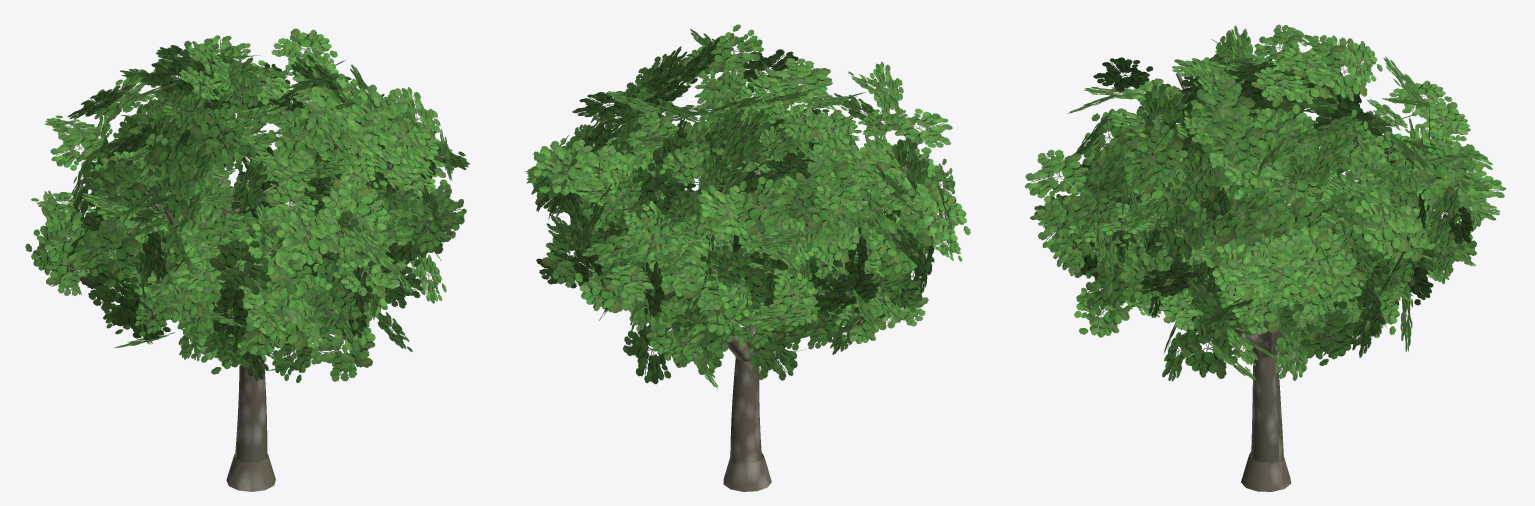
The model's file is chinor_1.glb.
3 renders of one model, left to right at view 1: azimuth 30°, elevation 25°; view 2: azimuth 150°, elevation 25°; view 3: azimuth 270°, elevation 25°, orthographic. The views are drawn at different scales.
Visible parts, largest first — view 1: chinor_leaves, chinor_bark; view 2: chinor_leaves, chinor_bark; view 3: chinor_leaves, chinor_bark.
Part boxes in pixels (x1,y1,x2,y2): chinor_leaves: (25, 28, 469, 382); chinor_bark: (118, 84, 392, 491); chinor_leaves: (524, 24, 970, 388); chinor_bark: (559, 142, 919, 491); chinor_leaves: (1025, 24, 1506, 381); chinor_bark: (1137, 60, 1419, 491).
Size of the model in its own units: 13.89 by 13.41 by 13.94.
2 materials, 2 textured.
